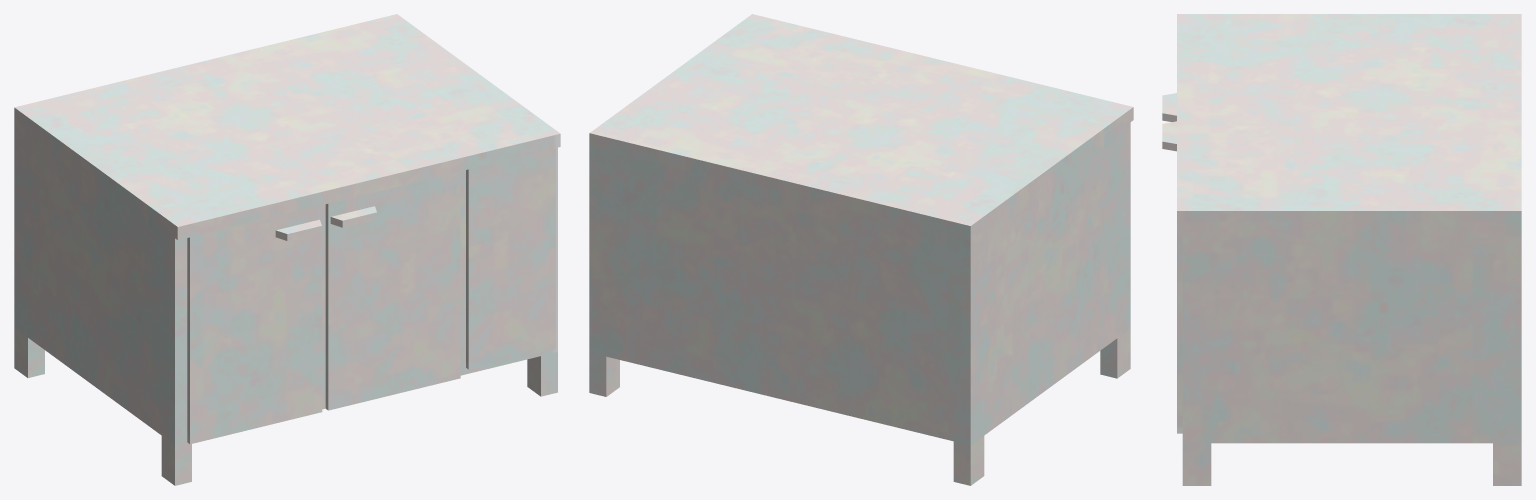
The model's file is sm24_008_refrigerator02a.fbx.
The picture shows the model from 3 angles, left to right: view 1: azimuth 30°, elevation 25°; view 2: azimuth 150°, elevation 25°; view 3: azimuth 270°, elevation 25°; orthographic projection. The views are drawn at different scales.
Parts seen in each view (by area): view 1: LOD_1_Group_0_Sub_1__sm24_008_refrigerator02A_A_Mat; view 2: LOD_1_Group_0_Sub_1__sm24_008_refrigerator02A_A_Mat; view 3: LOD_1_Group_0_Sub_1__sm24_008_refrigerator02A_A_Mat.
Boxes of the visible parts, left/top/right/bottom form: LOD_1_Group_0_Sub_1__sm24_008_refrigerator02A_A_Mat: left=14, top=14, right=560, bottom=485; LOD_1_Group_0_Sub_1__sm24_008_refrigerator02A_A_Mat: left=589, top=14, right=1133, bottom=485; LOD_1_Group_0_Sub_1__sm24_008_refrigerator02A_A_Mat: left=1162, top=14, right=1521, bottom=485.
Bounding box in the file's own units: 1.2 × 0.7845 × 0.9286.
